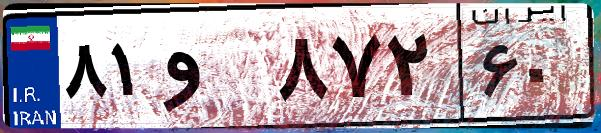0: (525, 38, 570, 115)
1: (110, 28, 158, 98)
2: (385, 28, 445, 110)
6: (475, 38, 525, 113)
7: (330, 28, 385, 110)
8: (270, 28, 330, 110), (57, 26, 110, 100)
و: (158, 20, 270, 120)
